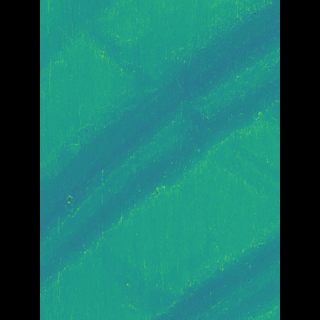Loch: (71, 0, 250, 295), (154, 214, 249, 320)
